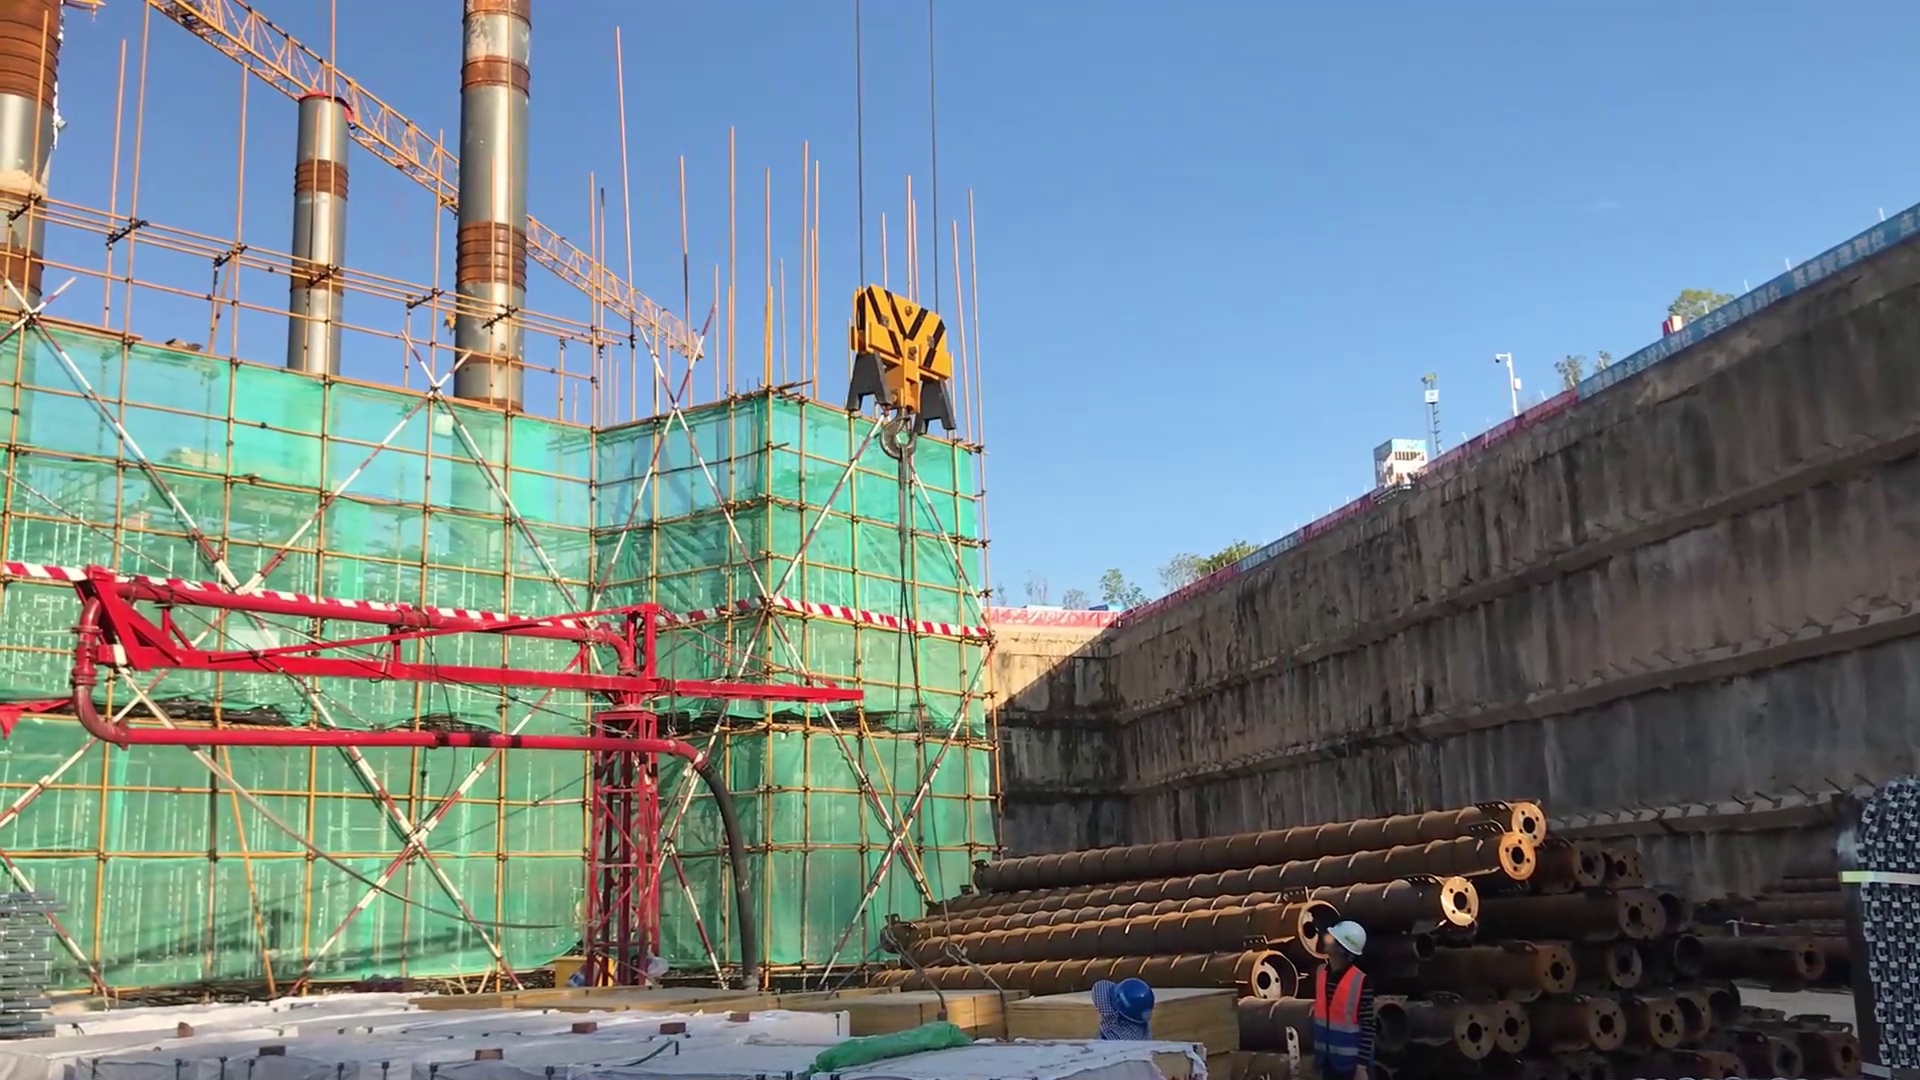board: (1005, 988, 1243, 1051), (773, 985, 1005, 1045)
ebox: (538, 956, 620, 994)
helmet: (1108, 966, 1162, 1036), (1311, 913, 1373, 963)
hook: (834, 280, 976, 485)
person: (1285, 916, 1378, 1080)
scaffold: (1861, 779, 1920, 1071), (1, 880, 94, 1044)
slogan: (1579, 203, 1920, 410), (1231, 530, 1308, 581)
vest: (1311, 962, 1365, 1075)
